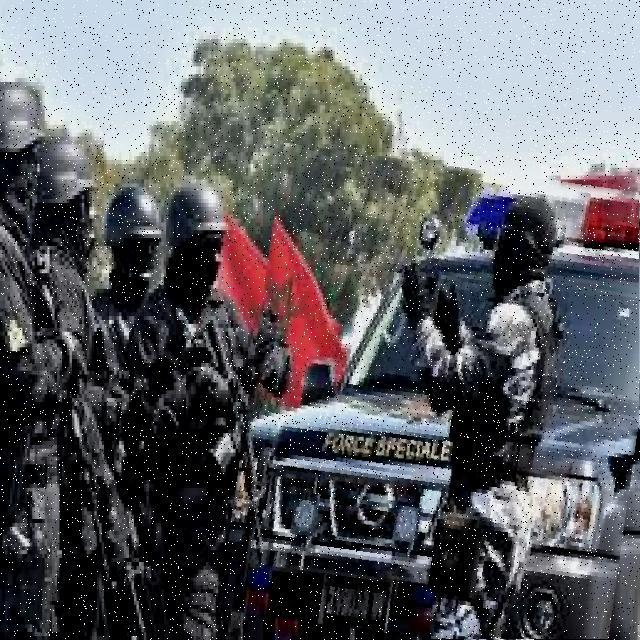police: (234, 155, 640, 640)
